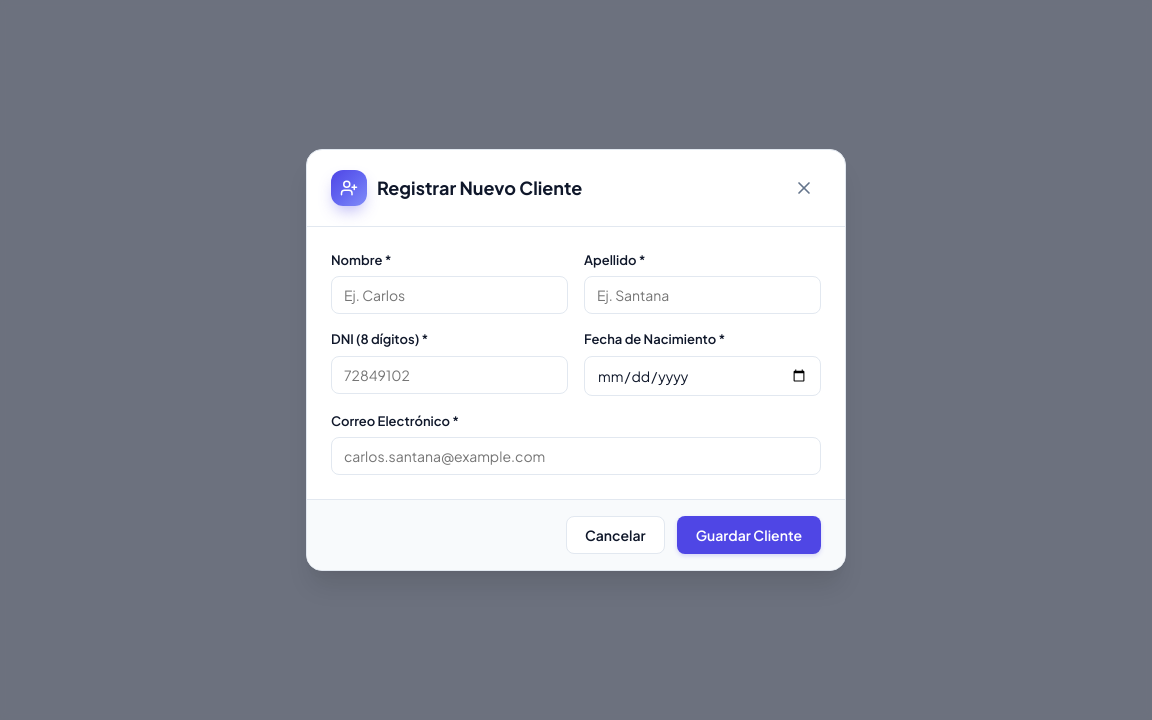
Test: CustomerFormModal Component › debe mostrar errores de validación si los campos obligatorios están vacíos al intentar enviar
Click the button "Guardar Cliente". click: (749, 535)
box: [677, 516, 821, 554]
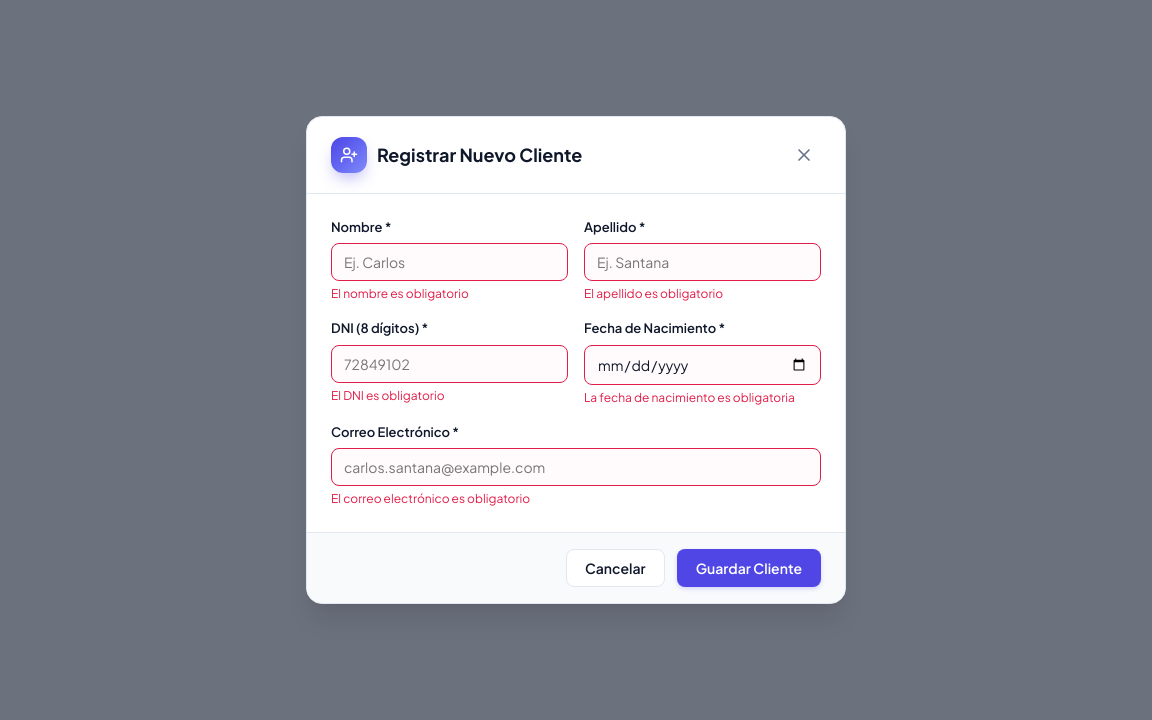
expect the text "El nombre es obligatorio" is shown: met, box [331, 286, 469, 301]
expect the text "El apellido es obligatorio" is shown: met, box [584, 286, 723, 301]
expect the text "El DNI es obligatorio" is shown: met, box [331, 388, 444, 403]
